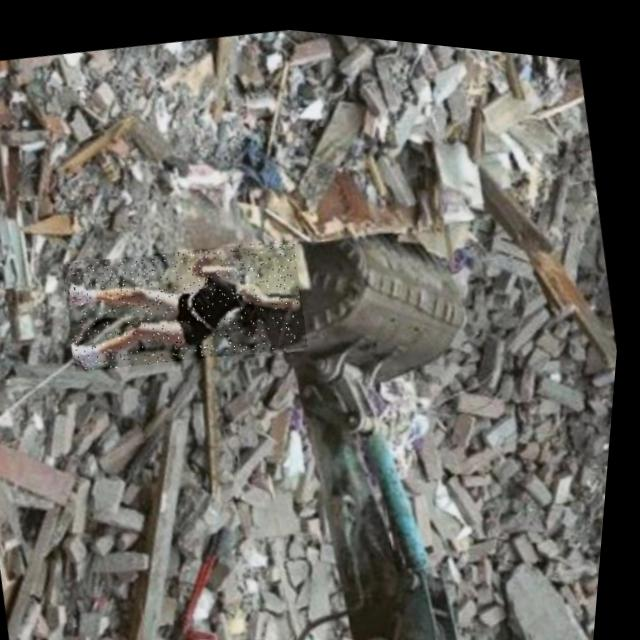Person in Rubble: (58, 214, 318, 388)
